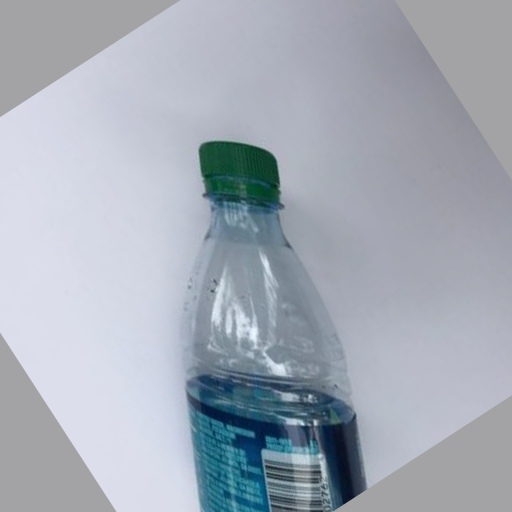Plastic_0: (186, 139, 368, 512)
